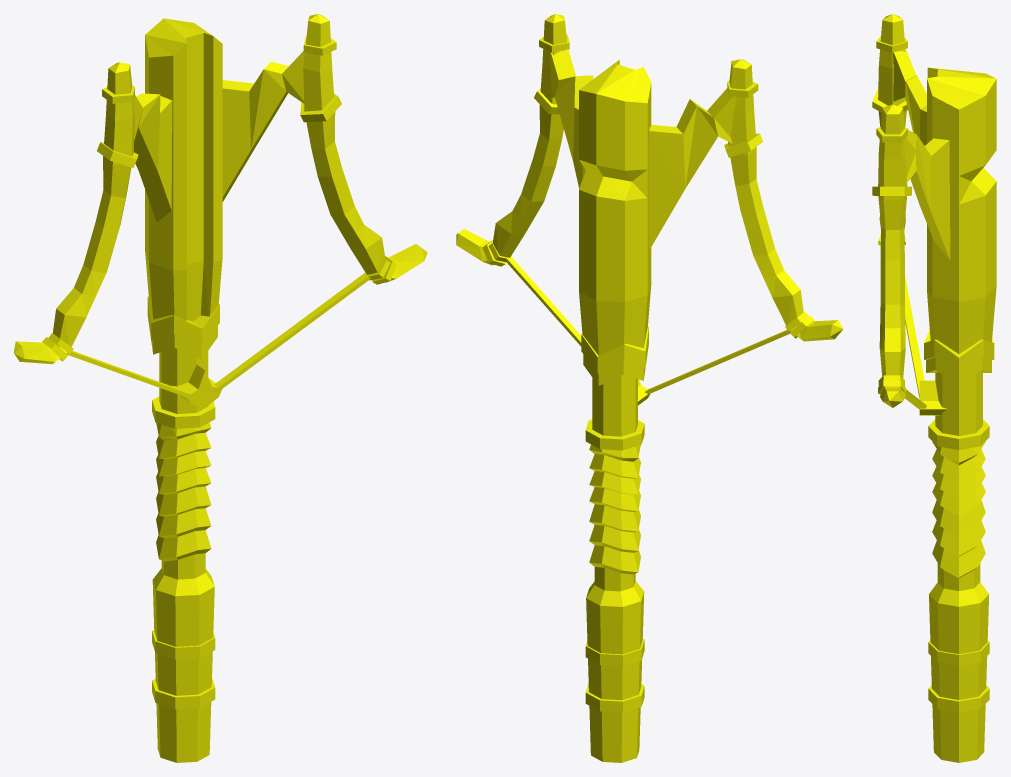
The model's file is _crossbow_5.glb.
3 views of the same model, side by side, from view 1: azimuth 30°, elevation 25°; view 2: azimuth 150°, elevation 25°; view 3: azimuth 270°, elevation 25° (orthographic). The views are drawn at different scales.
Parts seen in each view (by area): view 1: crossbow_5; view 2: crossbow_5; view 3: crossbow_5.
Boxes of the visible parts, x1,y1,x2,y2 form: crossbow_5: (14,14,427,762); crossbow_5: (456,14,843,762); crossbow_5: (872,14,996,762).
Size of the model in its own units: 0.5259 by 0.8983 by 0.146.
1 material, 1 textured.
